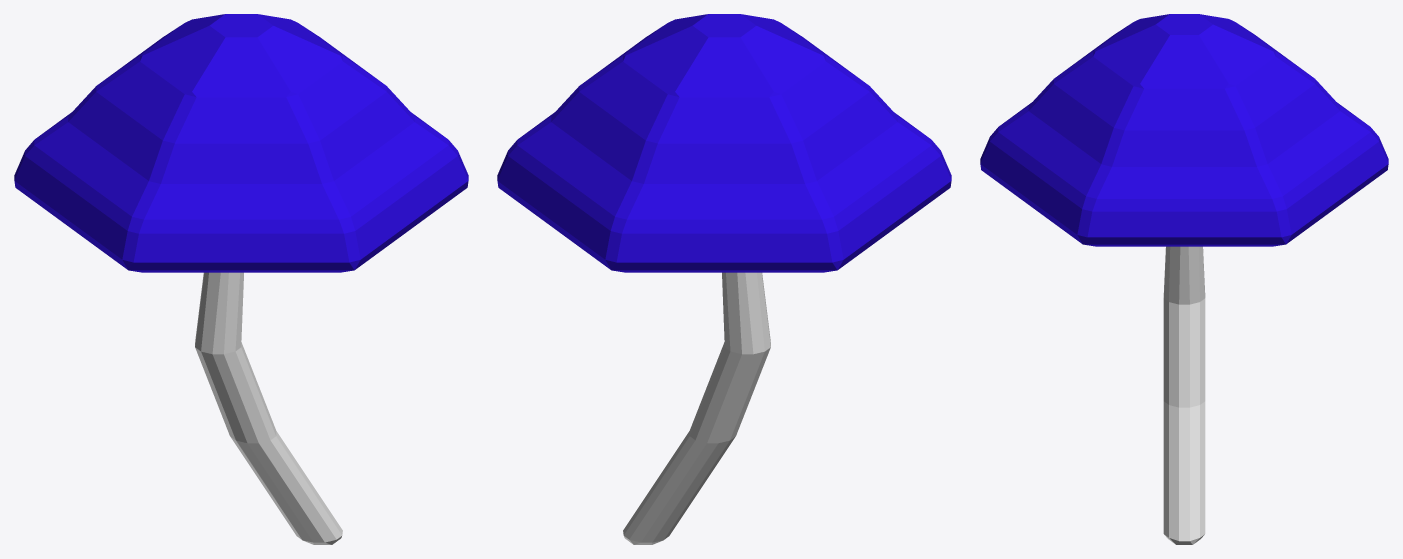
Rendered from Mushroom_01Big.fbx.
The picture shows the model from 3 angles, left to right: view 1: azimuth 30°, elevation 25°; view 2: azimuth 150°, elevation 25°; view 3: azimuth 270°, elevation 25°; orthographic projection. The views are drawn at different scales.
Visible parts, largest first — view 1: Mushroom_01Big; view 2: Mushroom_01Big; view 3: Mushroom_01Big.
Boxes of the visible parts, x1=… form: Mushroom_01Big: x1=14, y1=14, x2=468, y2=544; Mushroom_01Big: x1=497, y1=14, x2=951, y2=544; Mushroom_01Big: x1=980, y1=14, x2=1388, y2=544.
Bounding box in the file's own units: 297 × 437 × 338.
